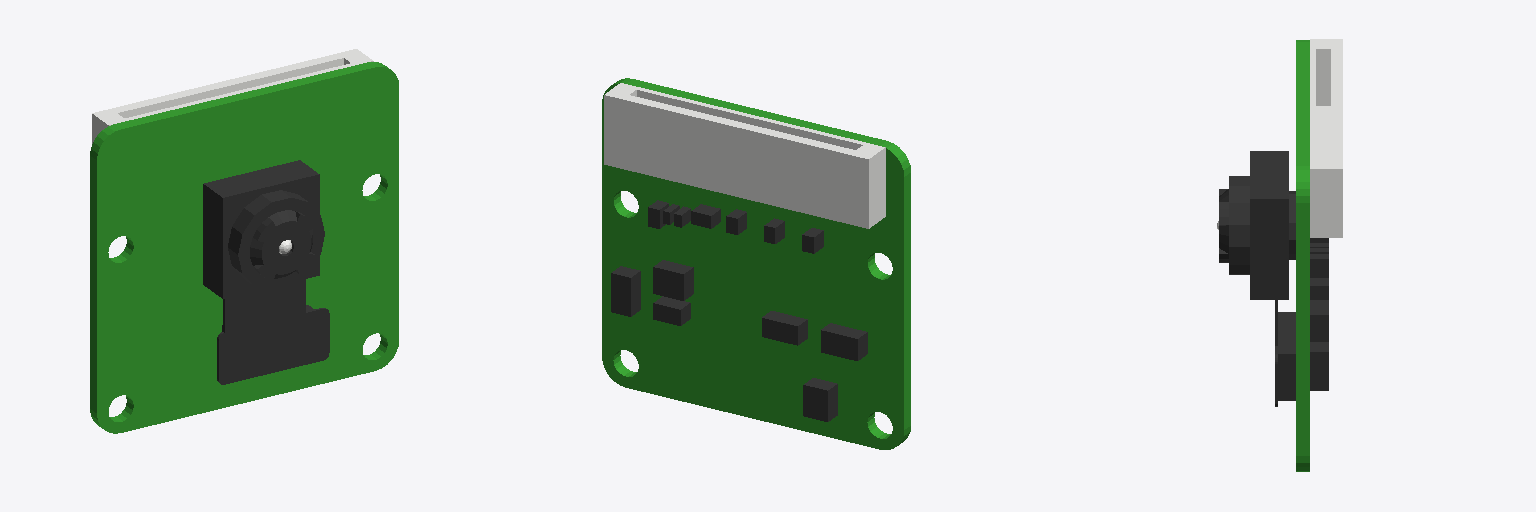
The model's file is RPi_Camera_Module_v2.obj.
The picture shows the model from 3 angles: view 1: azimuth 30°, elevation 25°; view 2: azimuth 150°, elevation 25°; view 3: azimuth 270°, elevation 25°; orthographic projection.
Visible parts, largest first — view 1: Solid1, Solid1:2, Solid1:3, Solid1:1; view 2: Solid1, Solid1:1, Solid2, Solid4, Solid11, Solid14, Solid8, Solid5, Solid3; view 3: Solid1:2, Solid1:1, Solid1, Solid1:3, Solid11, Solid4.
Part boxes in pixels (x1,y1,x2,y2): Solid1: (90, 62, 398, 433); Solid1:2: (203, 160, 324, 298); Solid1:3: (217, 279, 329, 384); Solid1:1: (92, 49, 373, 143); Solid1: (602, 78, 910, 449); Solid1:1: (604, 83, 885, 228); Solid2: (821, 323, 867, 360); Solid4: (653, 260, 693, 300); Solid11: (611, 266, 640, 316); Solid14: (803, 378, 837, 421); Solid8: (762, 311, 807, 345); Solid5: (653, 296, 690, 325); Solid3: (691, 204, 720, 228); Solid1:2: (1219, 151, 1295, 299); Solid1:1: (1310, 39, 1342, 237); Solid1: (1296, 40, 1309, 471); Solid1:3: (1275, 300, 1295, 406); Solid11: (1310, 342, 1328, 390); Solid4: (1310, 300, 1328, 341).
Bounding box in the file's own units: 25 × 24 × 9.05.